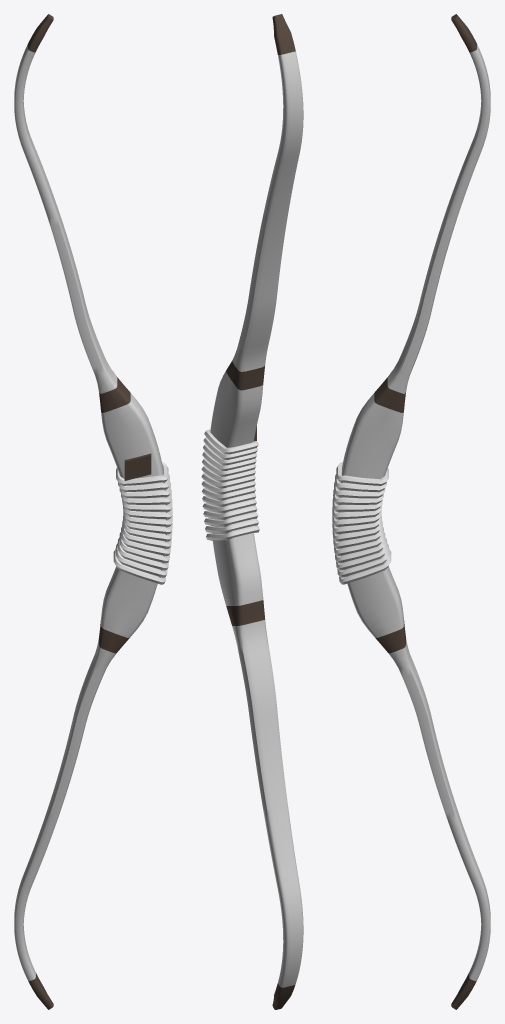
File: TungSahur_Bow.fbx
The picture shows the model from 3 angles, left to right: view 1: azimuth 90°, elevation 25°; view 2: azimuth 210°, elevation 25°; view 3: azimuth 270°, elevation 25°; orthographic projection.
Parts seen in each view (by area): view 1: TungSahur_Bow; view 2: TungSahur_Bow; view 3: TungSahur_Bow.
Boxes of the visible parts, <box> form: TungSahur_Bow: <box>14,14,172,1009</box>; TungSahur_Bow: <box>201,14,303,1009</box>; TungSahur_Bow: <box>332,14,490,1009</box>.
Size of the model in its own units: 0.0555 by 1.35 by 0.1961.
